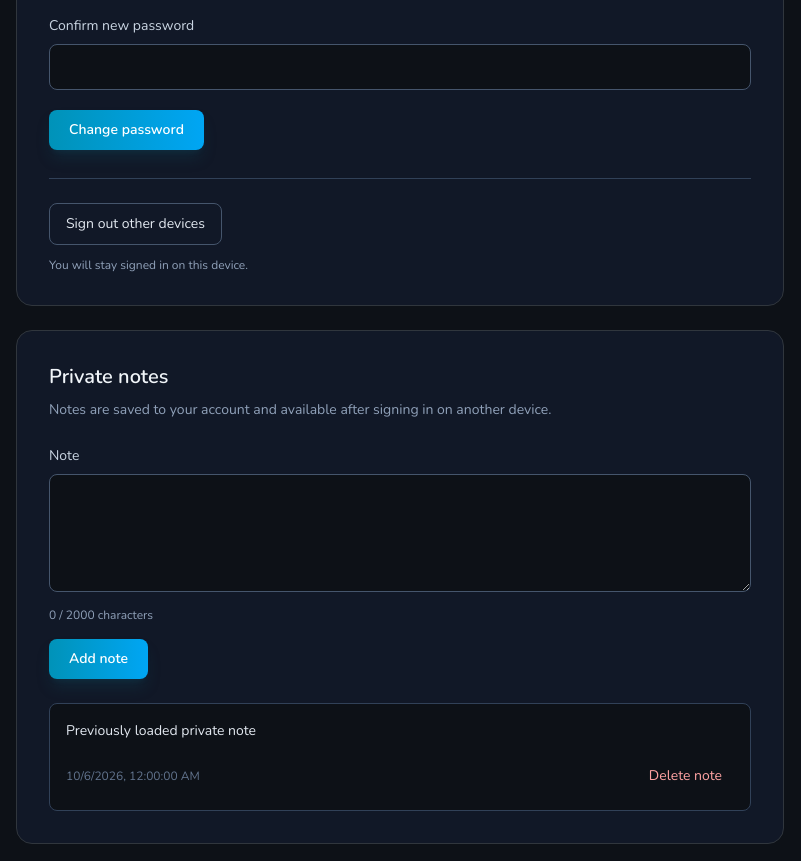
it: signed-in account tools › refreshes the session and clears private data when add returns unauthorized
(page scrolled)
Expected: the text "Previously loaded private note" is shown, [66,720,256,740]
Step 1. Type "Another note" into the text box labelled "Note" → point(400, 532), box [49,474,751,592]
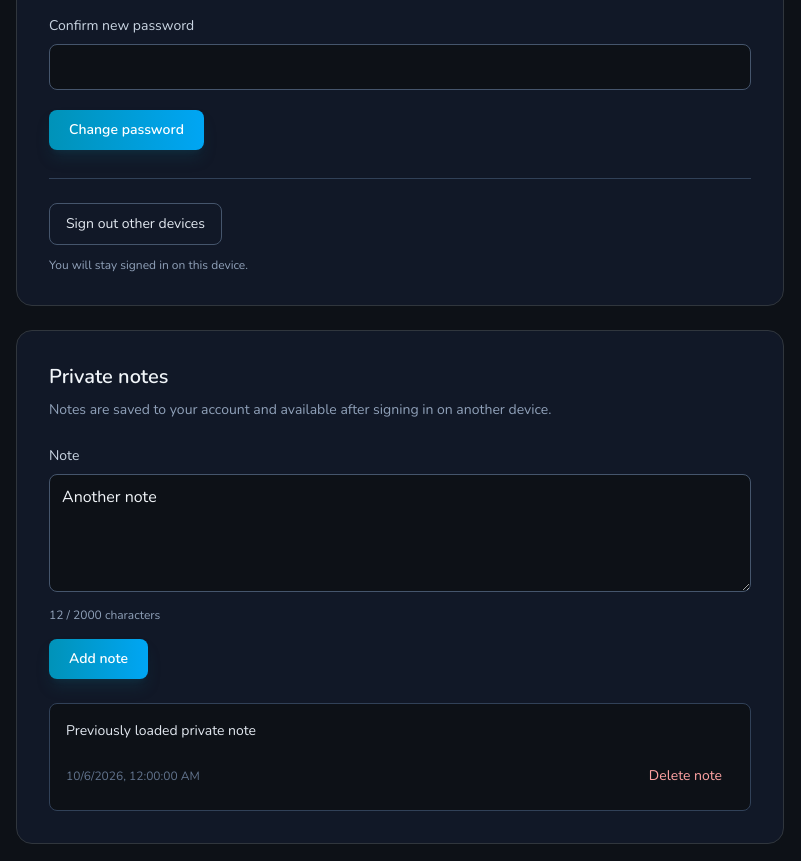
Step 2. Submit the form "Add note", box [49,446,751,678]
(page scrolled)
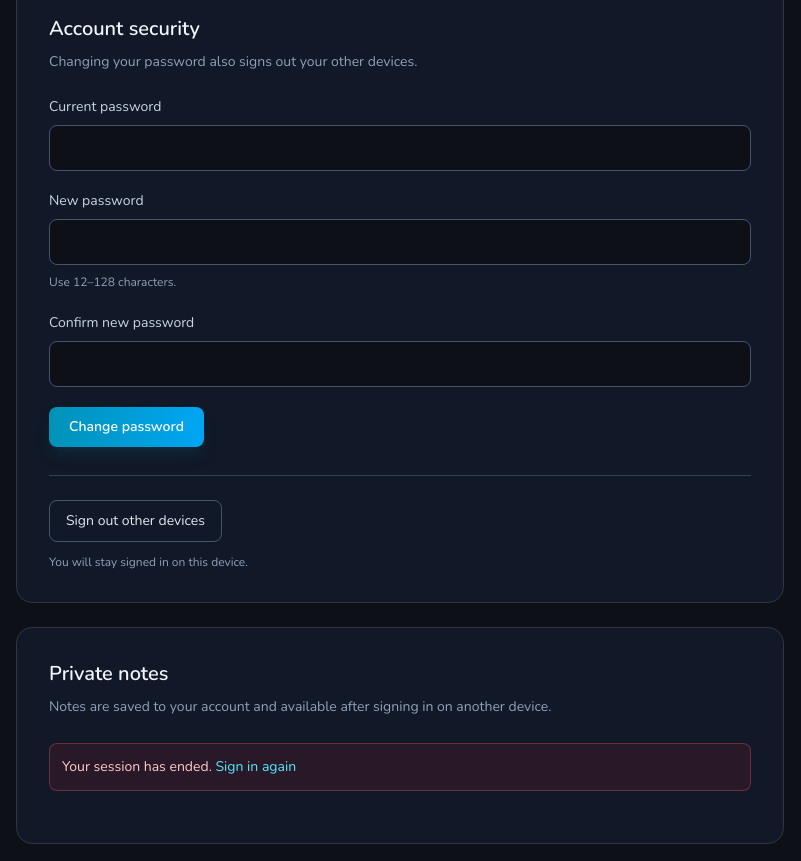
Now the text "Your session has ended. Sign in again" is shown, box [49,742,751,791]
Now the text "Previously loaded private note" is gone
